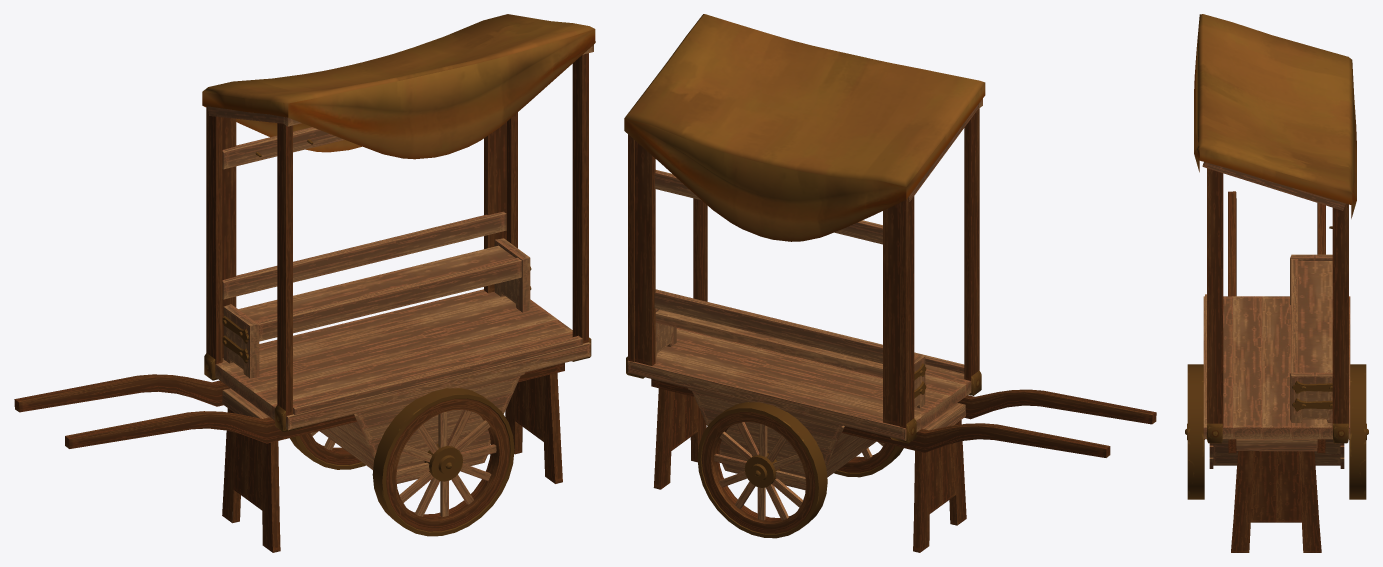
File: Stall_Cart_Empty.gltf
3 views of the same model, side by side, from view 1: azimuth 30°, elevation 25°; view 2: azimuth 150°, elevation 25°; view 3: azimuth 270°, elevation 25° (orthographic). The views are drawn at different scales.
Visible parts, largest first — view 1: Stall_Cart_Empty; view 2: Stall_Cart_Empty; view 3: Stall_Cart_Empty.
Boxes of the visible parts, x1,y1,x2,y2 form: Stall_Cart_Empty: (14, 14, 595, 552); Stall_Cart_Empty: (624, 14, 1156, 552); Stall_Cart_Empty: (1185, 14, 1368, 552).
Bounding box in the file's own units: 3.02 × 2.63 × 1.06.
3 materials, 3 textured.
